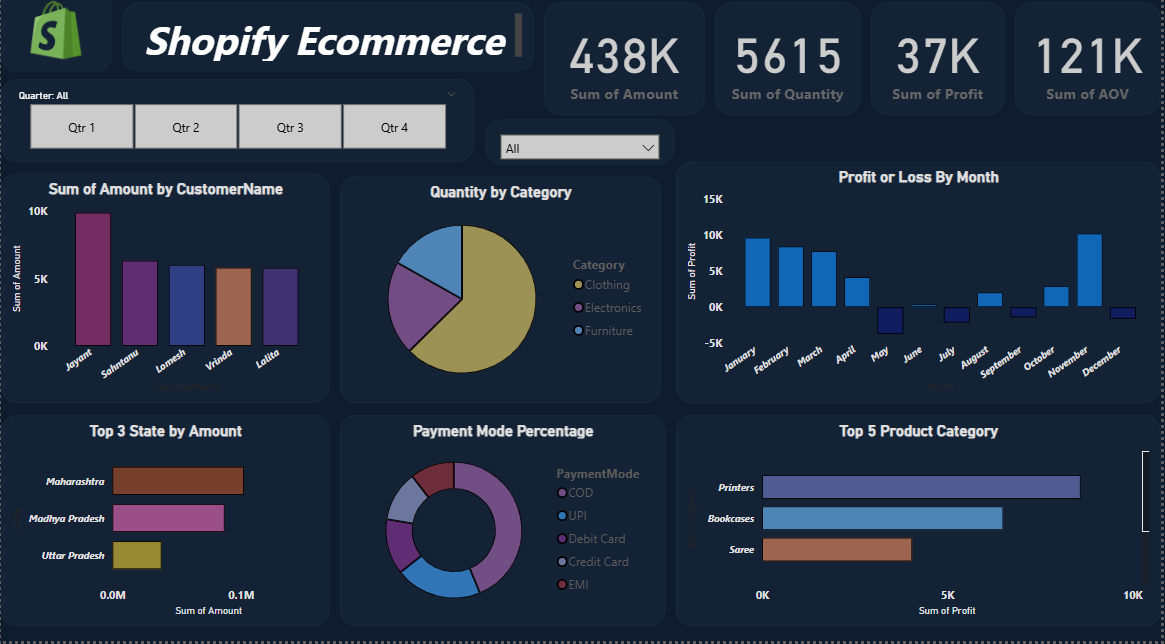

This screenshot's page, from the dashboard's own definition file:
{"tool":"powerbi","page":{"name":"Page 1","canvas":[1280,720],"ordinal":0},"visuals":[{"type":"columnChart","title":"Profit  or Loss By Month","fields":{"Category":["Orders.Order Date.Variation.Date Hierarchy.Month"],"Y":["Products.Profit"]},"box":[745.4,190.5,535,266.7],"z":0},{"type":"image","box":[0,0,122.6,91.1],"z":1000},{"type":"textbox","box":[134.2,14.9,453.9,76.2],"z":2000},{"type":"clusteredBarChart","title":"Top 5 Product Category","fields":{"Category":["Products.Sub-Category"],"Y":["Products.Profit"]},"box":[745.4,470.4,535,233.6],"z":3000},{"type":"pieChart","title":" Quantity  by Category","fields":{"Category":["Products.Category"],"Y":["Products.Quantity"]},"box":[374.4,207.1,354.5,250.1],"z":4000},{"type":"donutChart","title":"Payment Mode Percentage","fields":{"Category":["Products.PaymentMode"],"Y":["Products.Quantity"]},"box":[374.4,470.4,359.5,233.6],"z":5000},{"type":"barChart","title":"Top 3 State by Amount","fields":{"Category":["Orders.State"],"Y":["Products.Amount"]},"box":[0,470.4,362.8,233.6],"z":6000},{"type":"columnChart","fields":{"Category":["Orders.CustomerName"],"Y":["Products.Amount"]},"box":[0,203.7,362.8,253.4],"z":7000},{"type":"card","fields":{"Values":["Products.Amount"]},"box":[599.6,14.9,177.2,124.2],"z":8000},{"type":"card","fields":{"Values":["Products.Quantity"]},"box":[788.5,14.9,160.7,124.2],"z":9000},{"type":"card","fields":{"Values":["Products.Profit"]},"box":[960.8,14.9,147.4,124.2],"z":10000},{"type":"card","fields":{"Values":["Products.AOV"]},"box":[1119.8,14.9,160.7,124.2],"z":11000},{"type":"slicer","fields":{"Values":["Orders.Order Date.Variation.Date Hierarchy.Quarter"]},"box":[0,99.4,521.8,91.1],"z":12000},{"type":"slicer","fields":{"Values":["Orders.State"]},"box":[535,144.1,208.7,49.7],"z":13000}]}

Visuals, with their boxes in screenshot pixels (x1, y1, x2, y2), scaled from the page's 1280x720 canvas onto the 1165x644 screenshot:
"Profit  or Loss By Month" columnChart: bbox=[678, 170, 1164, 409]
image: bbox=[0, 0, 112, 81]
textbox: bbox=[122, 13, 535, 81]
"Top 5 Product Category" clusteredBarChart: bbox=[678, 421, 1164, 630]
" Quantity  by Category" pieChart: bbox=[341, 185, 663, 409]
"Payment Mode Percentage" donutChart: bbox=[341, 421, 668, 630]
"Top 3 State by Amount" barChart: bbox=[0, 421, 330, 630]
columnChart - Orders.CustomerName x Products.Amount: bbox=[0, 182, 330, 409]
card - Products.Amount: bbox=[546, 13, 707, 124]
card - Products.Quantity: bbox=[718, 13, 864, 124]
card - Products.Profit: bbox=[874, 13, 1009, 124]
card - Products.AOV: bbox=[1019, 13, 1164, 124]
slicer - Orders.Order Date.Variation.Date Hierarchy.Quarter: bbox=[0, 89, 475, 170]
slicer - Orders.State: bbox=[487, 129, 677, 173]
